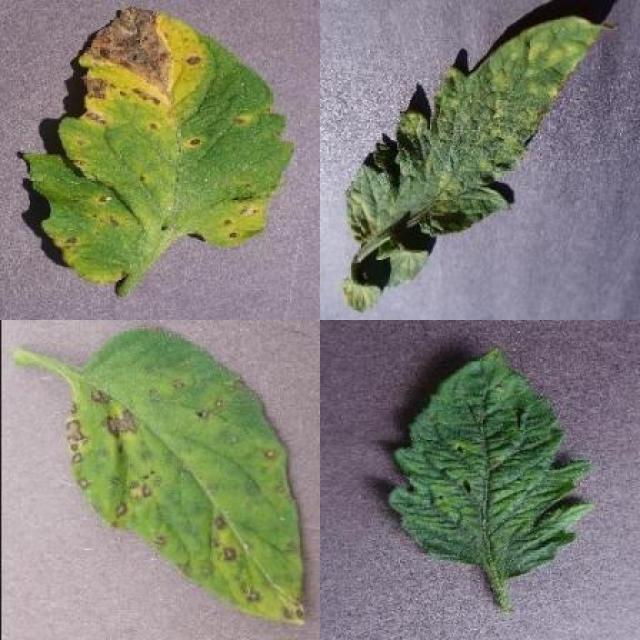Leaf Mold: (343, 14, 618, 314)
Mosaic Virus: (387, 344, 596, 579)
Septoria: (23, 6, 298, 281), (60, 327, 306, 627)
